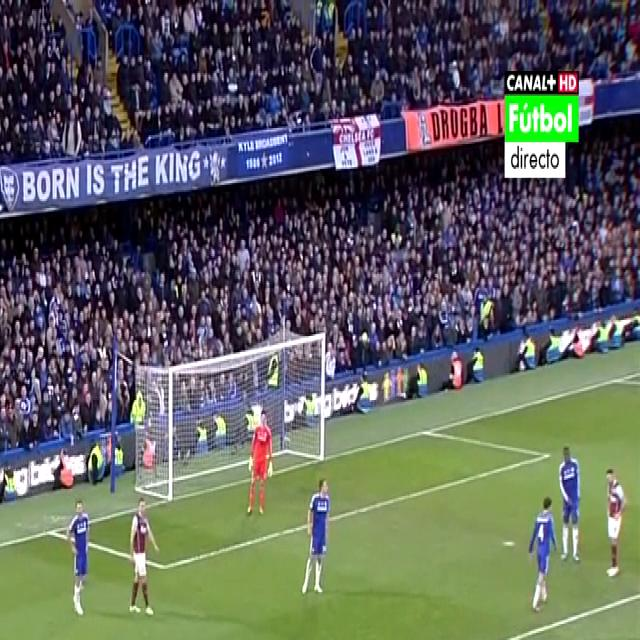goalkeeper: (245, 401, 277, 525)
soccer-player: (296, 468, 336, 602), (599, 459, 637, 592), (124, 492, 161, 627), (62, 488, 98, 623), (525, 490, 561, 618), (549, 433, 583, 565)
